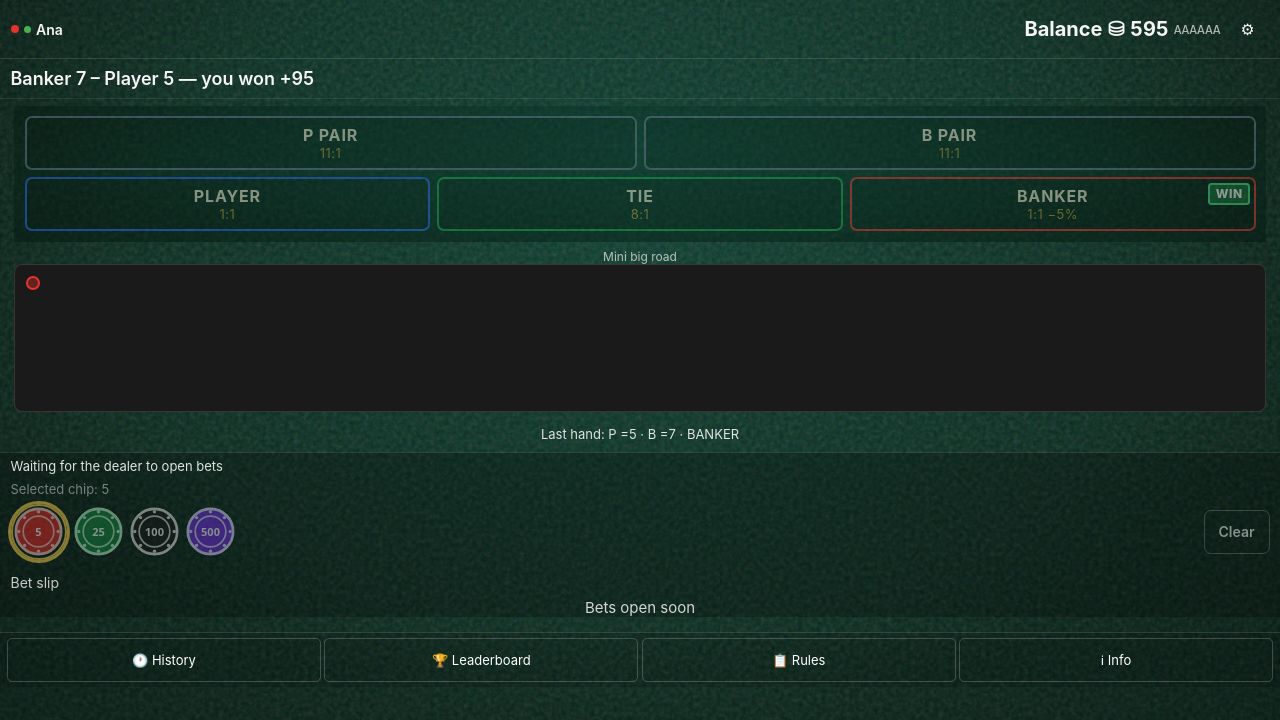
Test: PlayerShell › history shows game-specific result description
The image size is (1280, 720).
Click the tab "🕐 History" at [164, 660], box [7, 638, 321, 682]
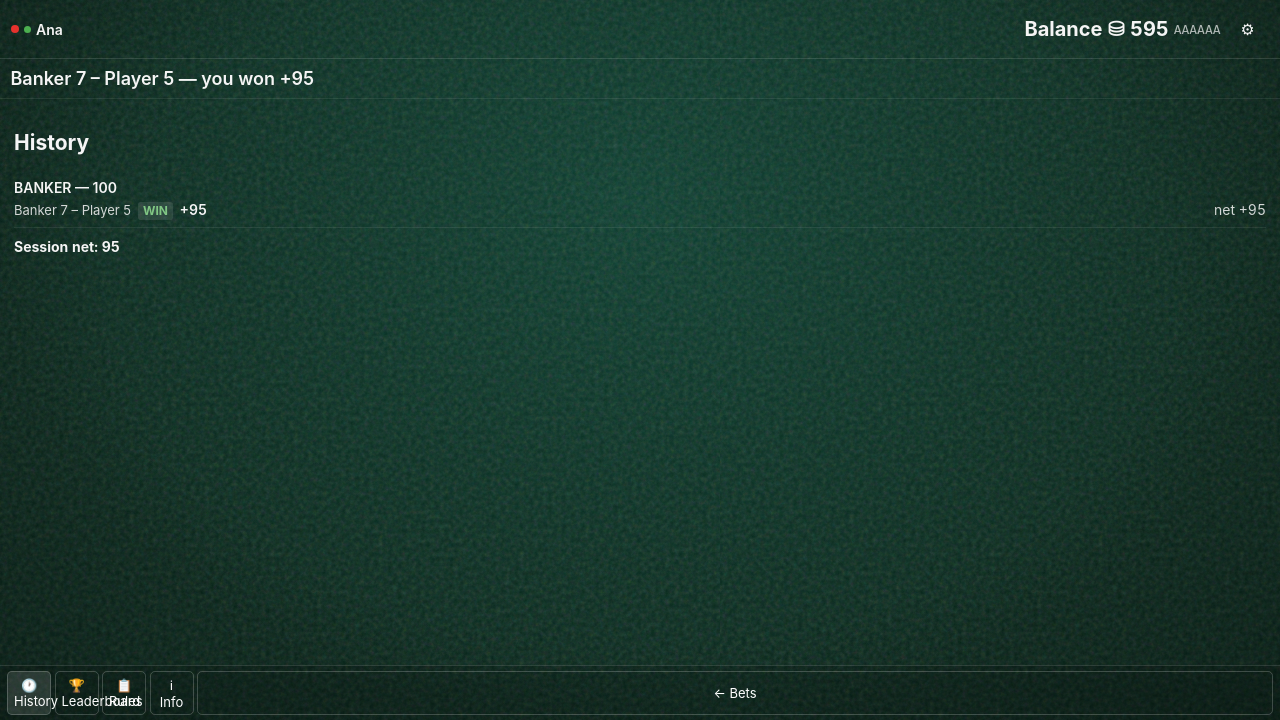
Now the text with test id "player-history-result-b1" reads "Banker 7 – Player 5", box [14, 202, 131, 218]
